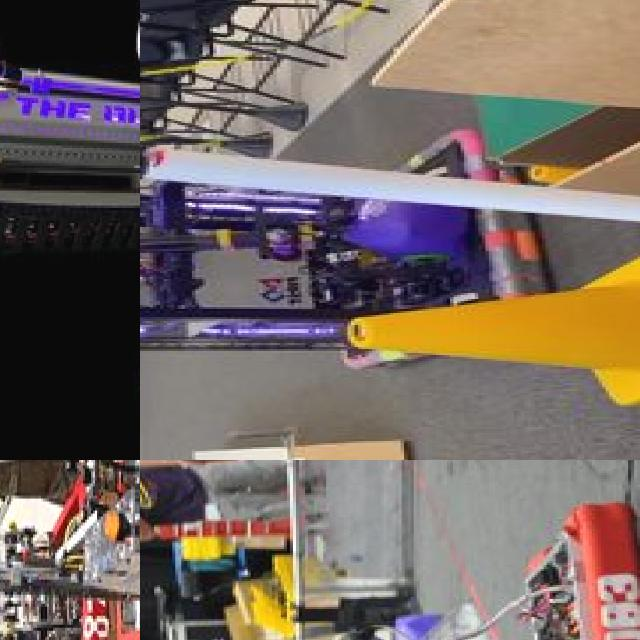FRC-Robots: (140, 138, 524, 388), (202, 467, 640, 640), (0, 0, 140, 460), (0, 460, 102, 640), (102, 460, 140, 640)
